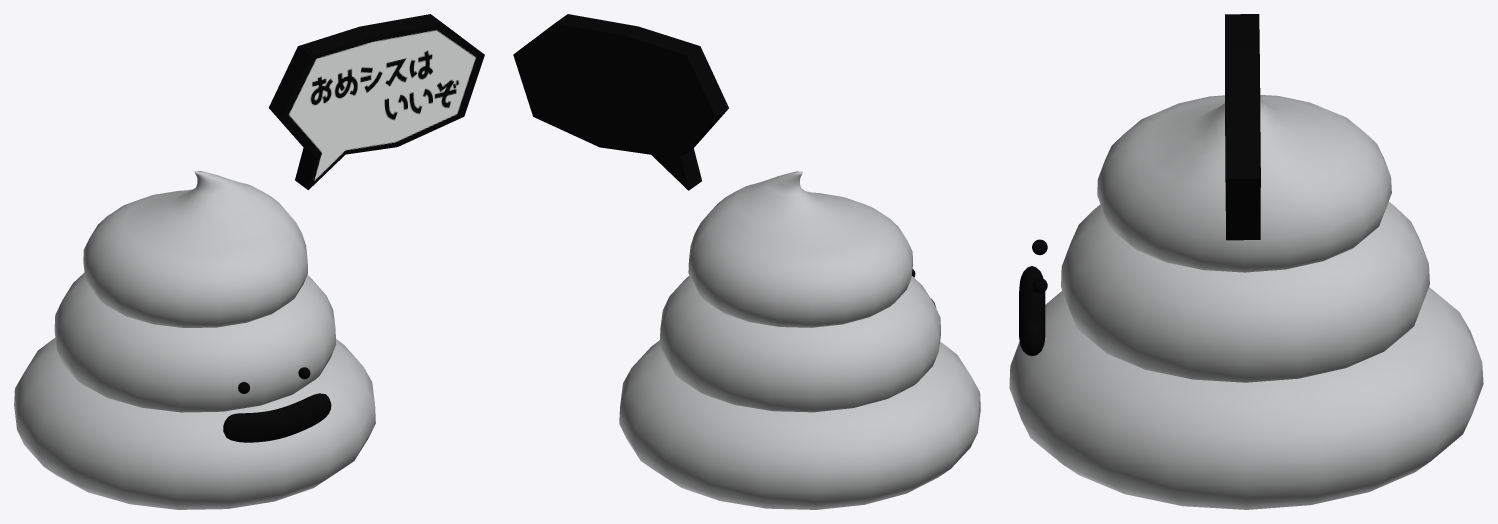
The model's file is unchan_silver_text.gltf.
3 views of the same model, side by side, from view 1: azimuth 30°, elevation 25°; view 2: azimuth 150°, elevation 25°; view 3: azimuth 270°, elevation 25° (orthographic). The views are drawn at different scales.
Visible parts, largest first — view 1: layer_1, layer_2, layer_3, layer_6, layer_5; view 2: layer_1, layer_2, layer_3, layer_6; view 3: layer_1, layer_3, layer_2, layer_6, layer_5.
Part boxes in pixels (box(x1,y1,x2,y2)): layer_1: box(14, 338, 375, 509); layer_2: box(83, 171, 307, 327); layer_3: box(54, 272, 336, 412); layer_6: box(268, 14, 484, 189); layer_5: box(223, 393, 331, 442); layer_1: box(619, 340, 980, 509); layer_2: box(688, 171, 912, 327); layer_3: box(659, 275, 940, 412); layer_6: box(513, 14, 728, 190); layer_1: box(1009, 287, 1483, 509); layer_3: box(1061, 201, 1429, 382); layer_2: box(1097, 95, 1391, 272); layer_6: box(1225, 14, 1260, 240); layer_5: box(1019, 266, 1045, 356).
Bounding box in the file's own units: 19.48 × 16.06 × 13.97.
Materials: 6 (6 with a texture image).
